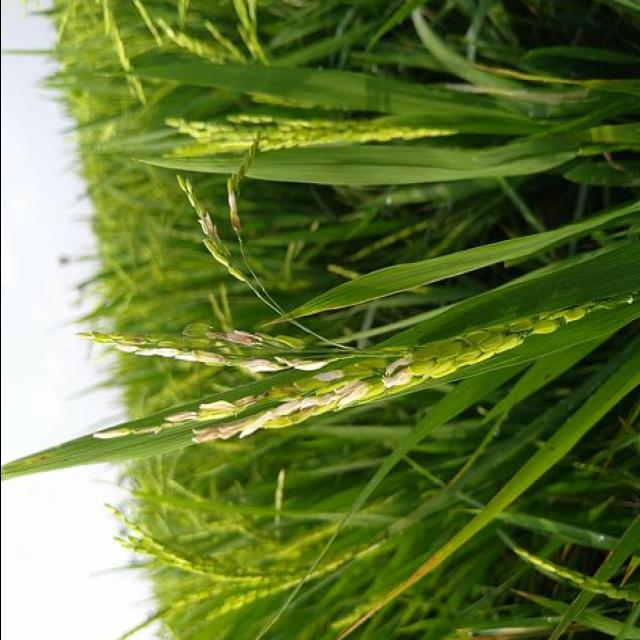Panicle Blight: (98, 331, 431, 443), (226, 152, 251, 233), (200, 205, 226, 263)
